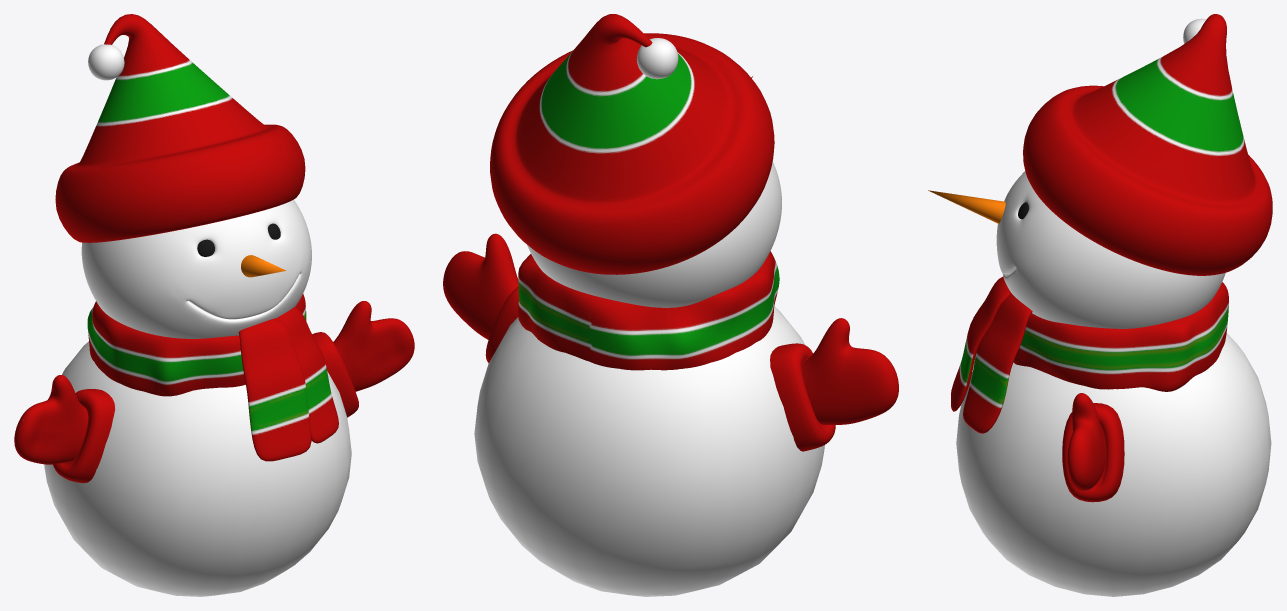
The model's file is snowman3.glb.
3 renders of one model, left to right at view 1: azimuth 30°, elevation 25°; view 2: azimuth 150°, elevation 25°; view 3: azimuth 270°, elevation 25°, orthographic. The views are drawn at different scales.
Parts seen in each view (by area): view 1: pCube4; view 2: pCube4; view 3: pCube4.
Part boxes in pixels (x1,y1,x2,y2): pCube4: (14, 14, 414, 596); pCube4: (443, 14, 898, 596); pCube4: (928, 14, 1272, 596).
Size of the model in its own units: 0.0648 by 0.0831 by 0.047.
Materials: 1 (1 with a texture image).
